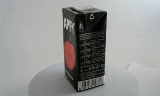appy: (57, 3, 100, 92)
